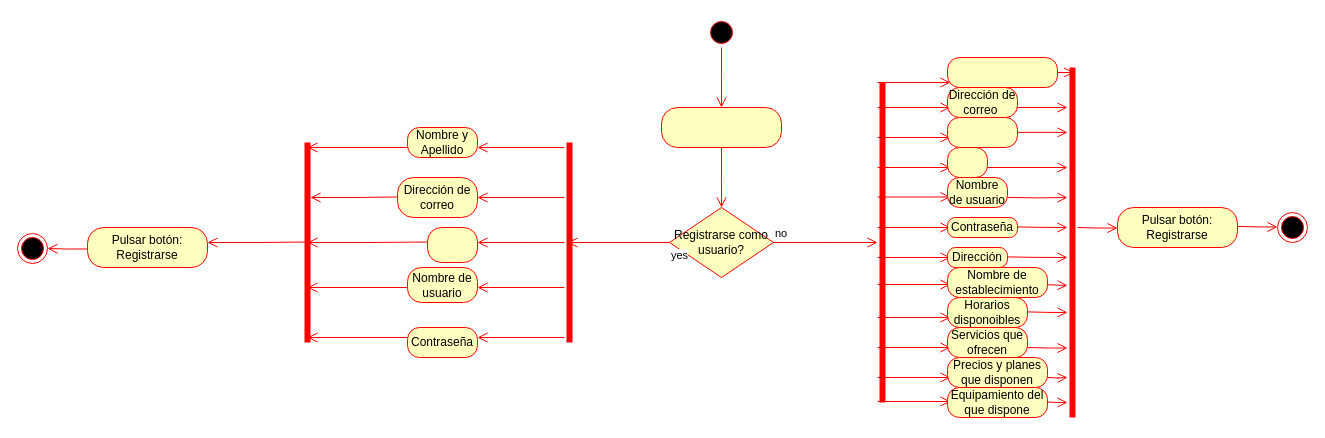
Some shapes in this 1325 by 438 pixel diagram are drawn without their labels. Each missing label, with the box of its shape:
CUIL: (946, 146, 988, 178)
Ingresar a nuestro sigtio web: (660, 106, 782, 148)
Nombre y apellido del responsable: (946, 56, 1058, 88)
Teléfono: (426, 226, 478, 262)
Teléfono de contacto: (946, 116, 1018, 148)
